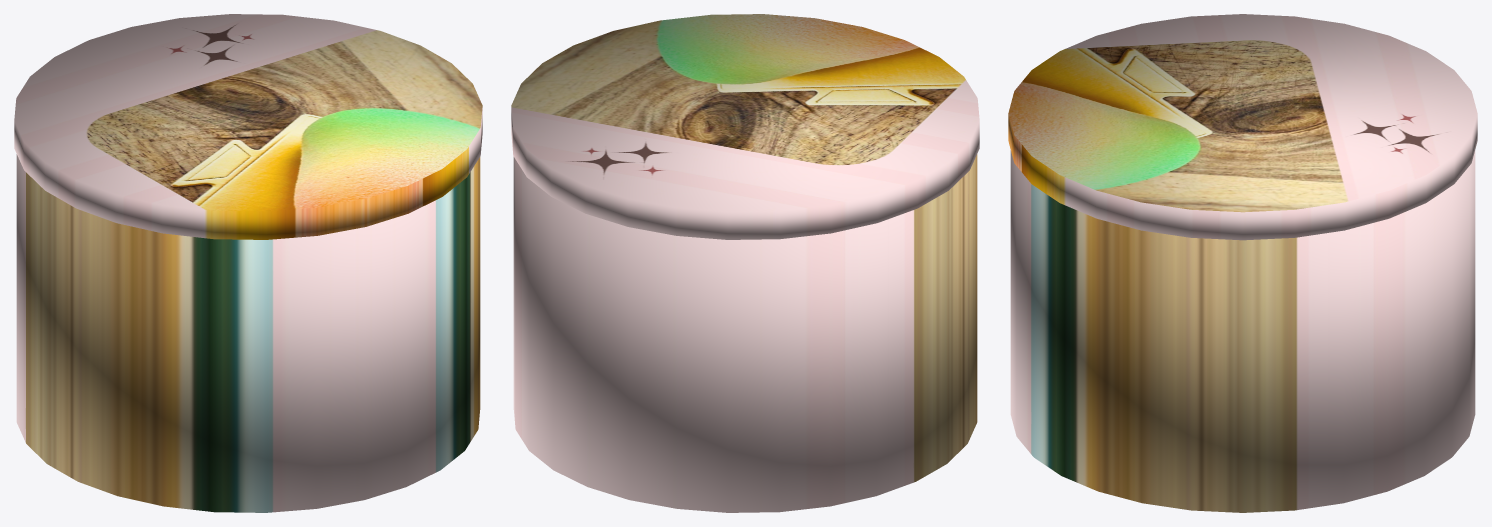
The model's file is prop_mango_entrement.glb.
3 renders of one model, left to right at view 1: azimuth 30°, elevation 25°; view 2: azimuth 150°, elevation 25°; view 3: azimuth 270°, elevation 25°, orthographic.
Parts seen in each view (by area): view 1: prop_mango_entrement; view 2: prop_mango_entrement; view 3: prop_mango_entrement.
Part boxes in pixels (box(x1,y1,x2,y2)): prop_mango_entrement: box(14, 14, 482, 512); prop_mango_entrement: box(511, 14, 979, 512); prop_mango_entrement: box(1008, 14, 1477, 512).
Size of the model in its own units: 0.1212 by 0.086 by 0.1212.
1 material, 1 textured.
